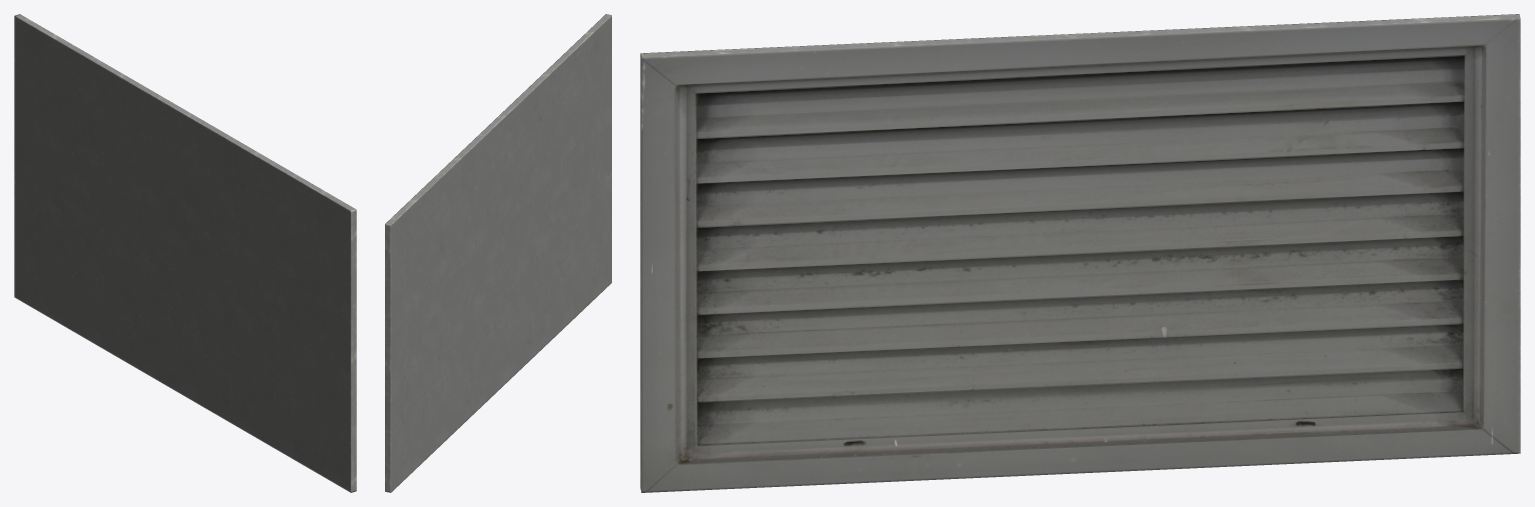
File: SM_062_Air_Vent_3.fbx
3 views of the same model, side by side, from view 1: azimuth 30°, elevation 25°; view 2: azimuth 150°, elevation 25°; view 3: azimuth 270°, elevation 25° (orthographic). The views are drawn at different scales.
Visible parts, largest first — view 1: SM_062_Air_Vent_3; view 2: SM_062_Air_Vent_3; view 3: SM_062_Air_Vent_3.
Part boxes in pixels (x1,y1,x2,y2): SM_062_Air_Vent_3: (14, 14, 356, 492); SM_062_Air_Vent_3: (385, 14, 611, 492); SM_062_Air_Vent_3: (640, 14, 1520, 492).
Size of the model in its own units: 8.77 by 74.64 by 40.73.
Materials: 1 (1 with a texture image).
